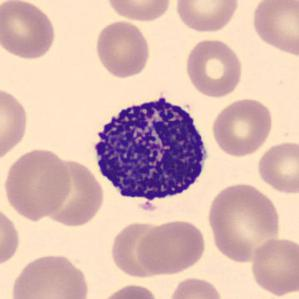Basophil: (86, 88, 214, 218)
RBC: (205, 180, 283, 264), (2, 146, 73, 221), (40, 160, 106, 231), (135, 217, 208, 277), (8, 250, 92, 299), (209, 96, 275, 158), (108, 218, 171, 280), (183, 36, 245, 98), (92, 18, 152, 80), (0, 0, 58, 62), (248, 235, 298, 297), (249, 0, 298, 57), (0, 84, 31, 165), (255, 140, 298, 195), (173, 0, 241, 34), (104, 0, 173, 23), (0, 202, 21, 271), (166, 275, 225, 299), (96, 281, 162, 299)
